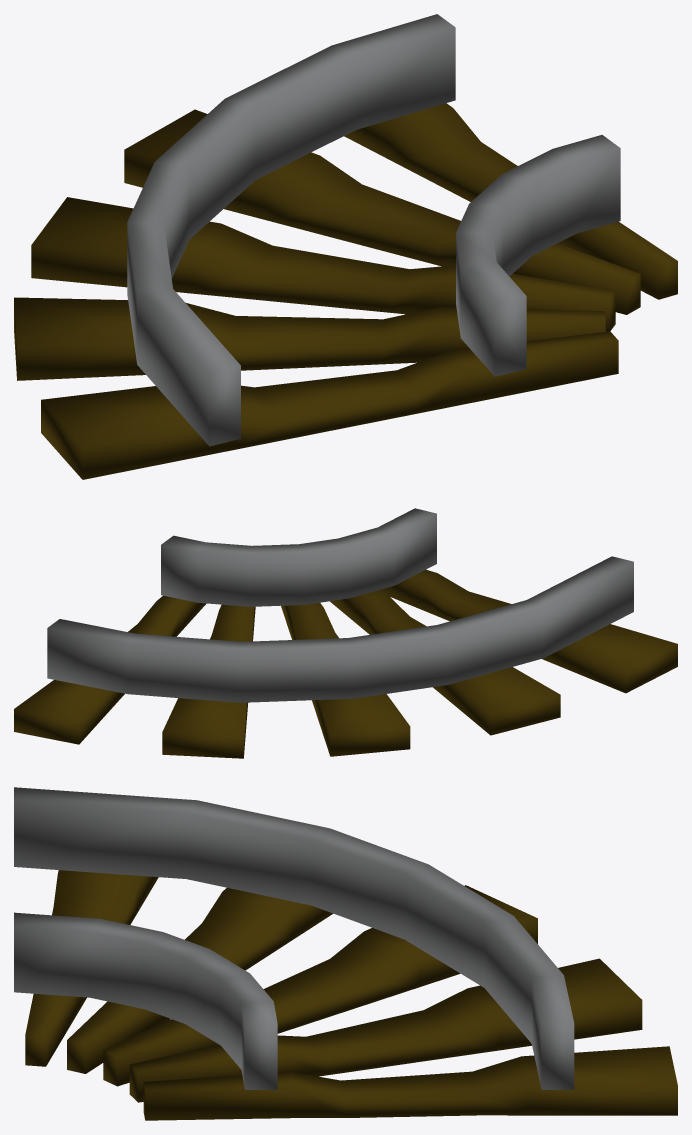
File: UpLeftTextured.fbx
The picture shows the model from 3 angles, top to bottom: view 1: azimuth 30°, elevation 25°; view 2: azimuth 150°, elevation 25°; view 3: azimuth 270°, elevation 25°; orthographic projection. The views are drawn at different scales.
Visible parts, largest first — view 1: Empty_Mesh; view 2: Empty_Mesh; view 3: Empty_Mesh.
Part boxes in pixels (box(x1,y1,x2,y2)): Empty_Mesh: box(14, 14, 677, 479); Empty_Mesh: box(14, 508, 677, 758); Empty_Mesh: box(14, 787, 677, 1120).
Bounding box in the file's own units: 1004 × 160 × 1007.
